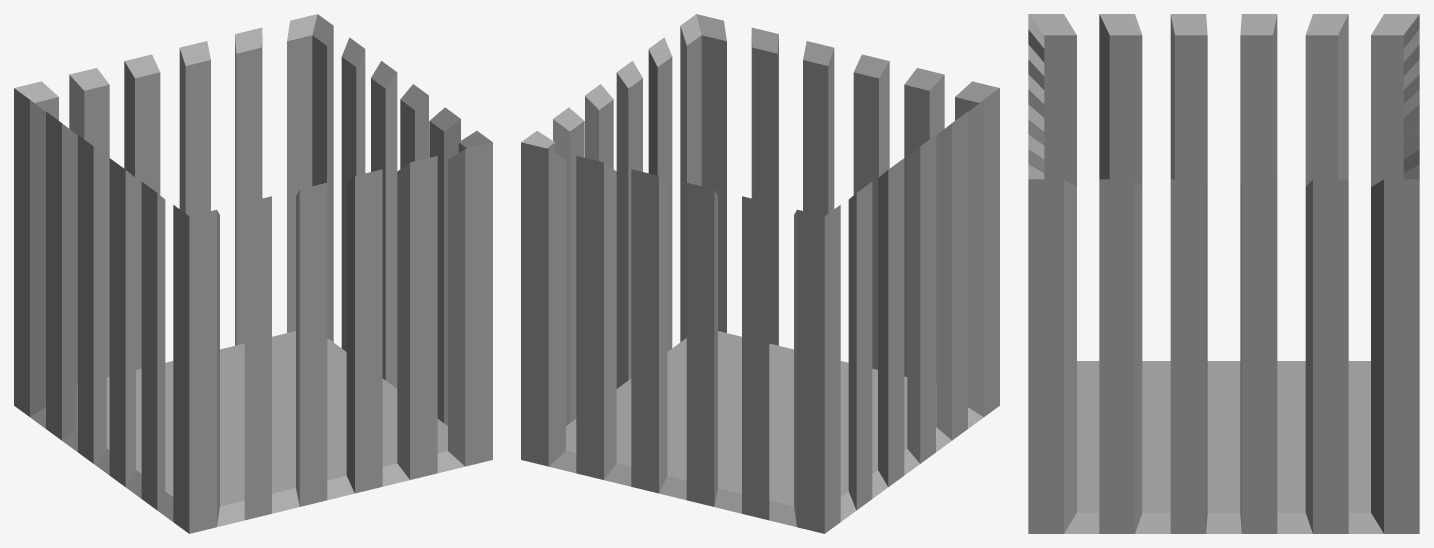
Rendered from Cage.fbx.
3 views of the same model, side by side, from view 1: azimuth 30°, elevation 25°; view 2: azimuth 150°, elevation 25°; view 3: azimuth 270°, elevation 25° (orthographic). The views are drawn at different scales.
Parts seen in each view (by area): view 1: pCube7; view 2: pCube7; view 3: pCube7.
Part boxes in pixels (x1,y1,x2,y2): pCube7: (14,14,492,533); pCube7: (521,14,999,533); pCube7: (1028,14,1419,533).
Size of the model in its own units: 900 by 900 by 900.
1 material, 1 textured.
